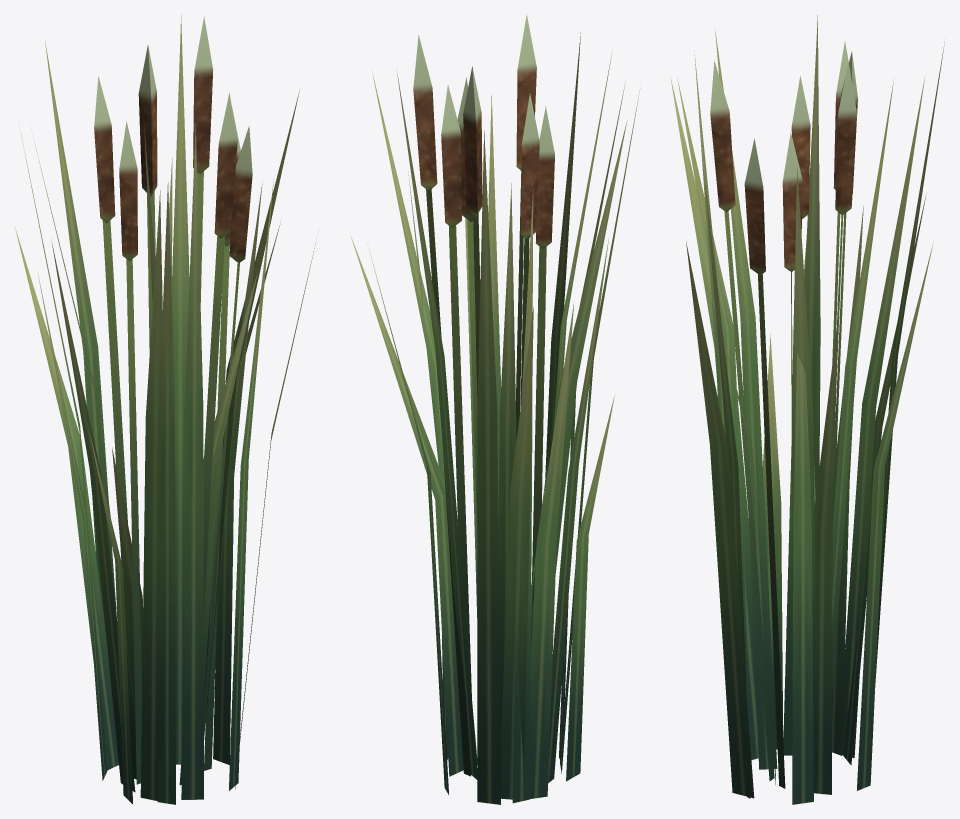
File: reeds-b.glb
3 views of the same model, side by side, from view 1: azimuth 30°, elevation 25°; view 2: azimuth 150°, elevation 25°; view 3: azimuth 270°, elevation 25° (orthographic). The views are drawn at different scales.
Parts seen in each view (by area): view 1: reeds-b; view 2: reeds-b; view 3: reeds-b.
Part boxes in pixels (box(x1,y1,x2,y2)): reeds-b: box(15, 15, 316, 804); reeds-b: box(351, 14, 640, 804); reeds-b: box(670, 15, 944, 804).
Size of the model in its own units: 1.06 by 2.8 by 0.9393.
Materials: 1 (1 with a texture image).
